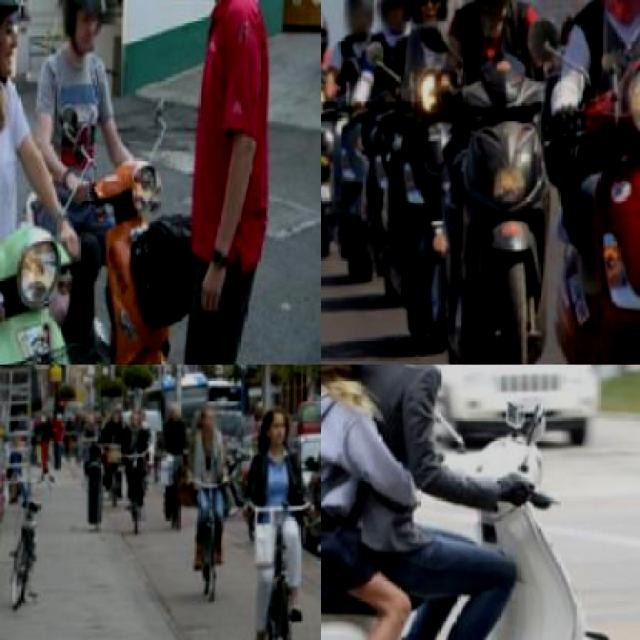With Helmet: (56, 0, 110, 69), (0, 0, 34, 100), (406, 0, 456, 34), (375, 0, 411, 37), (341, 0, 375, 38), (320, 9, 331, 60)
Without Helmet: (255, 405, 297, 453), (195, 402, 220, 435), (164, 396, 182, 426)
